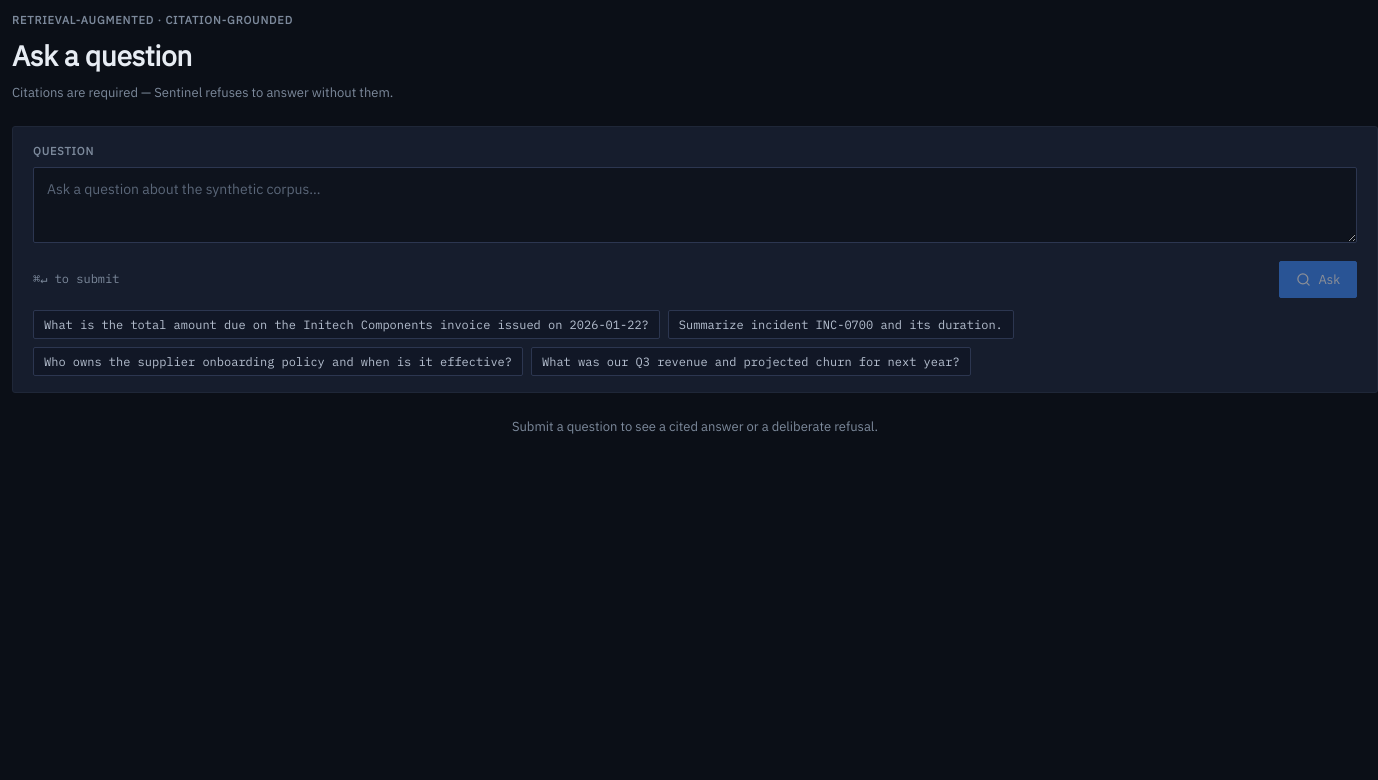
Test: Query view › submits a question, renders the answer and a citation
In the text box: (695, 204) [33,166,1357,242], type "Who is the vendor?"
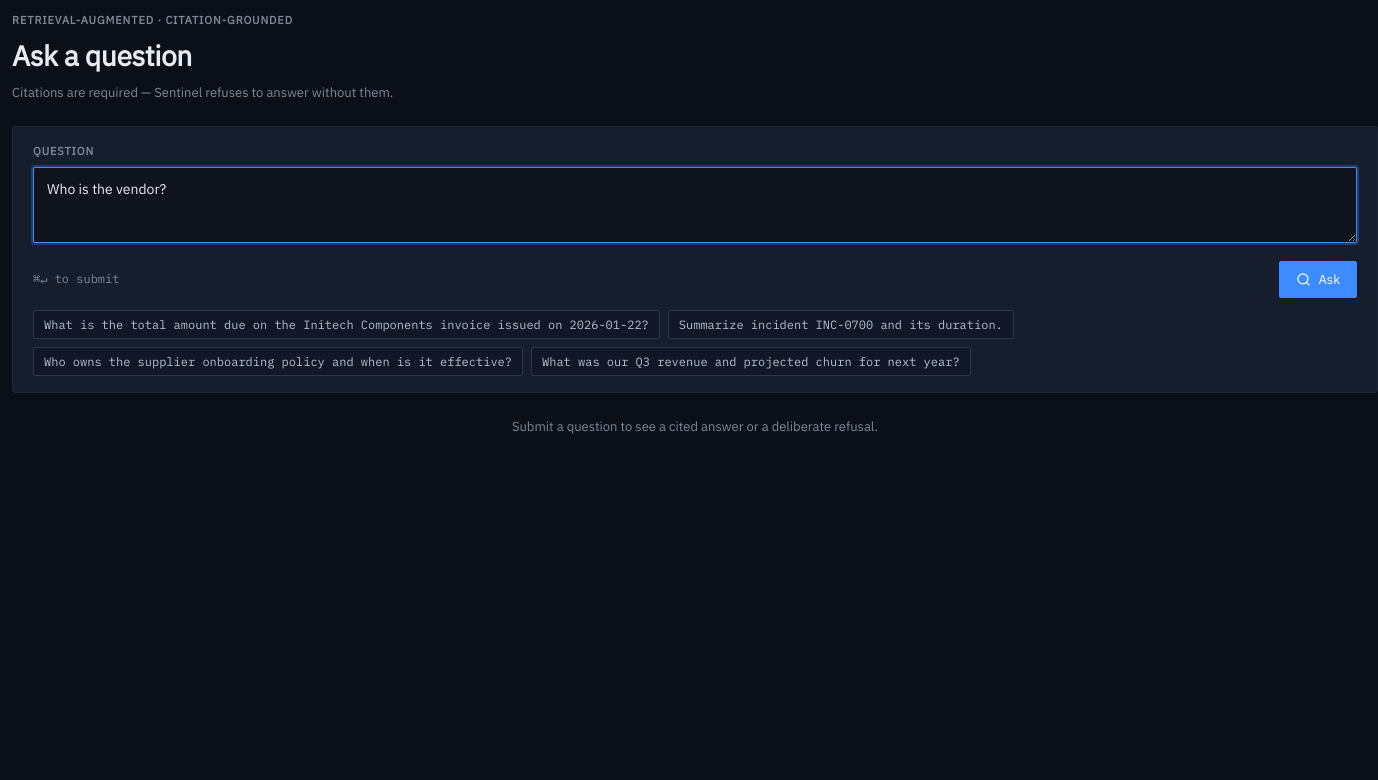
Check: the button "Ask" is enabled
Click the button "Ask": click(1318, 279) [1280,260,1357,298]
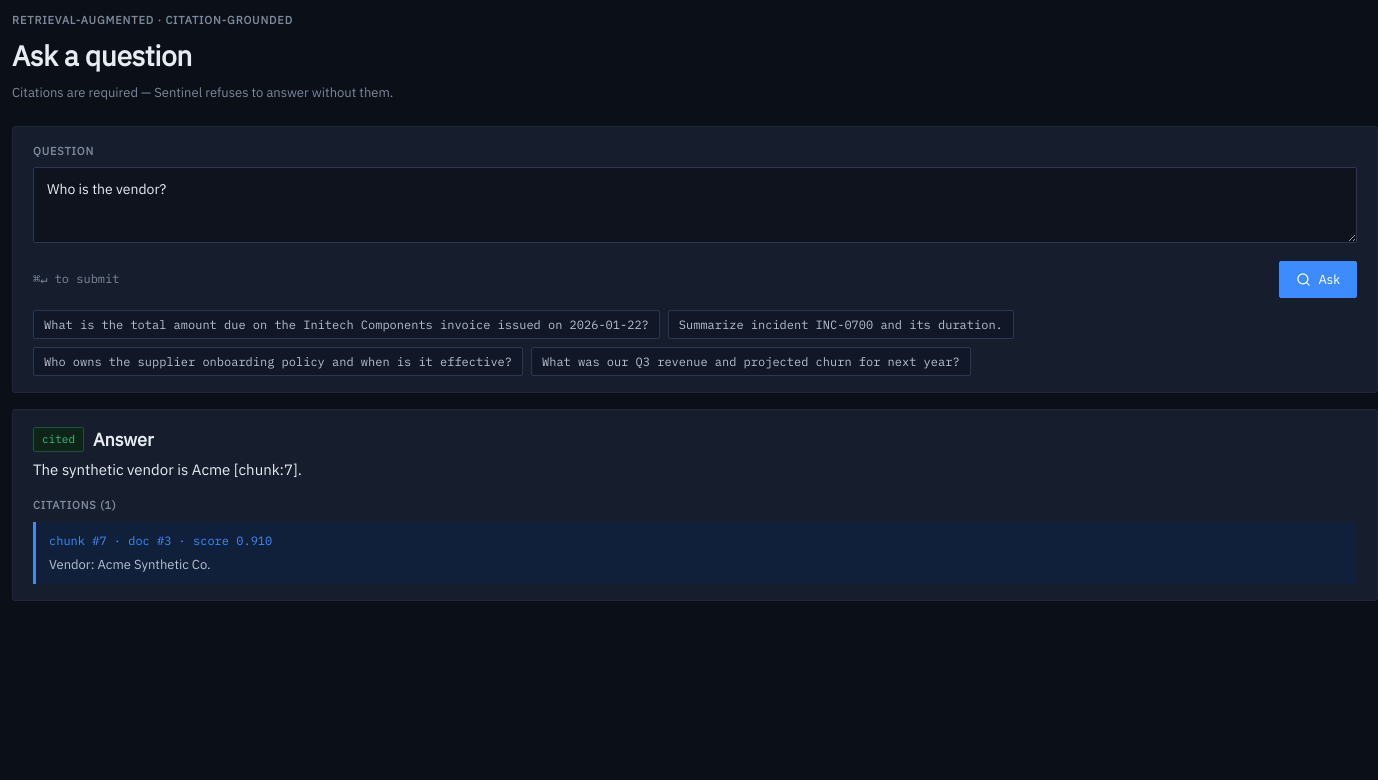
Check: the text "Vendor: Acme Synthetic Co." is shown, box [49,556,210,573]
Check: the text "Citations (1)" is shown, box [33,498,117,512]
Check: the text "chunk #7 · doc #3 · score 0.910" is shown, box [49,533,272,548]
